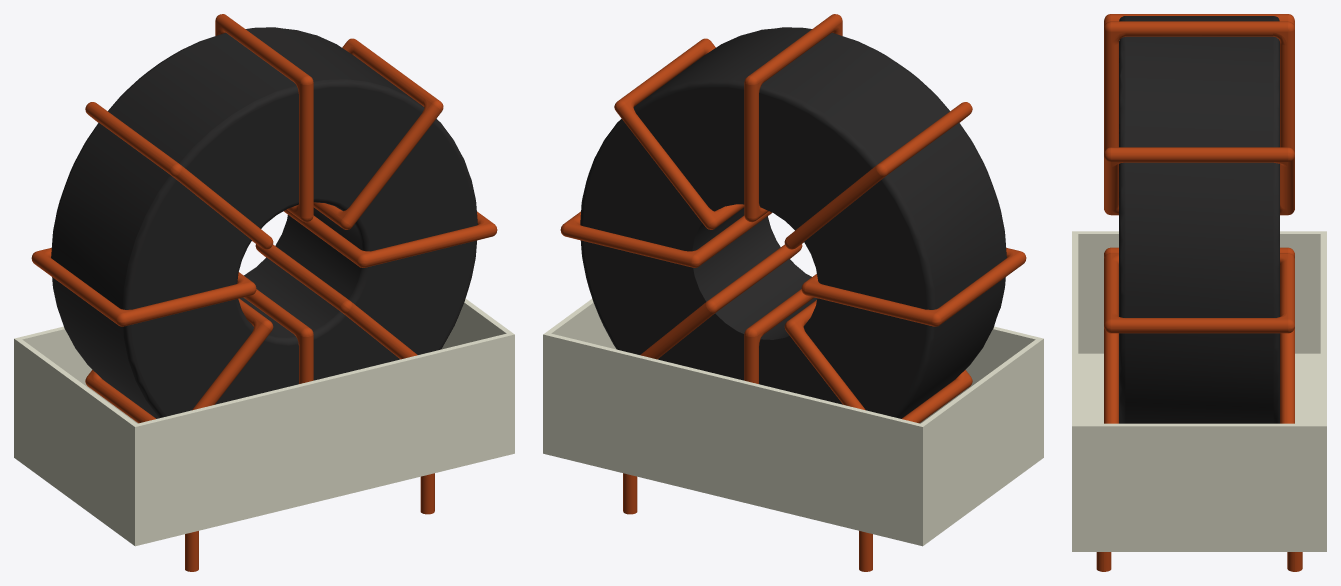
Rendered from kc-l_commonmode_toroid_vertical_l36.8mm_w20.3mm_px15.24mm_py22.86mm_bourns_8100.glb.
3 renders of one model, left to right at view 1: azimuth 30°, elevation 25°; view 2: azimuth 150°, elevation 25°; view 3: azimuth 270°, elevation 25°, orthographic. The views are drawn at different scales.
Parts seen in each view (by area): view 1: 0_0_0_0, 0.75_0.75_0.6666666666666666_0, 0.4166666666666667_0.08333333333333333_0_0; view 2: 0_0_0_0, 0.75_0.75_0.6666666666666666_0, 0.4166666666666667_0.08333333333333333_0_0; view 3: 0_0_0_0, 0.75_0.75_0.6666666666666666_0, 0.4166666666666667_0.08333333333333333_0_0.
Boxes of the visible parts, <box> form: 0_0_0_0: <box>51,27,477,418</box>; 0.75_0.75_0.6666666666666666_0: <box>14,298,514,546</box>; 0.4166666666666667_0.08333333333333333_0_0: <box>31,14,497,571</box>; 0_0_0_0: <box>580,27,1006,418</box>; 0.75_0.75_0.6666666666666666_0: <box>543,299,1043,546</box>; 0.4166666666666667_0.08333333333333333_0_0: <box>560,14,1026,571</box>; 0_0_0_0: <box>1119,16,1279,423</box>; 0.75_0.75_0.6666666666666666_0: <box>1072,231,1326,551</box>; 0.4166666666666667_0.08333333333333333_0_0: <box>1096,14,1302,571</box>.
Bounding box in the file's own units: 3.68 × 4.28 × 2.03.
